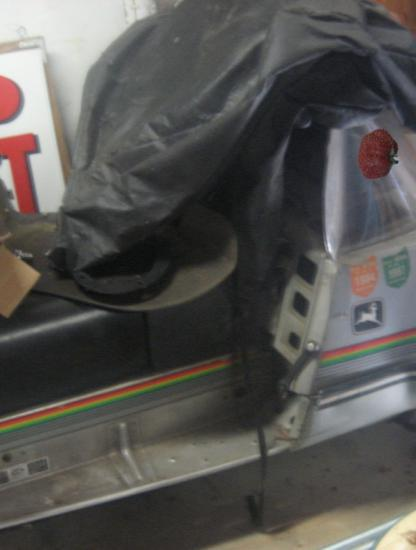Strawberry: (352, 128, 405, 181)
